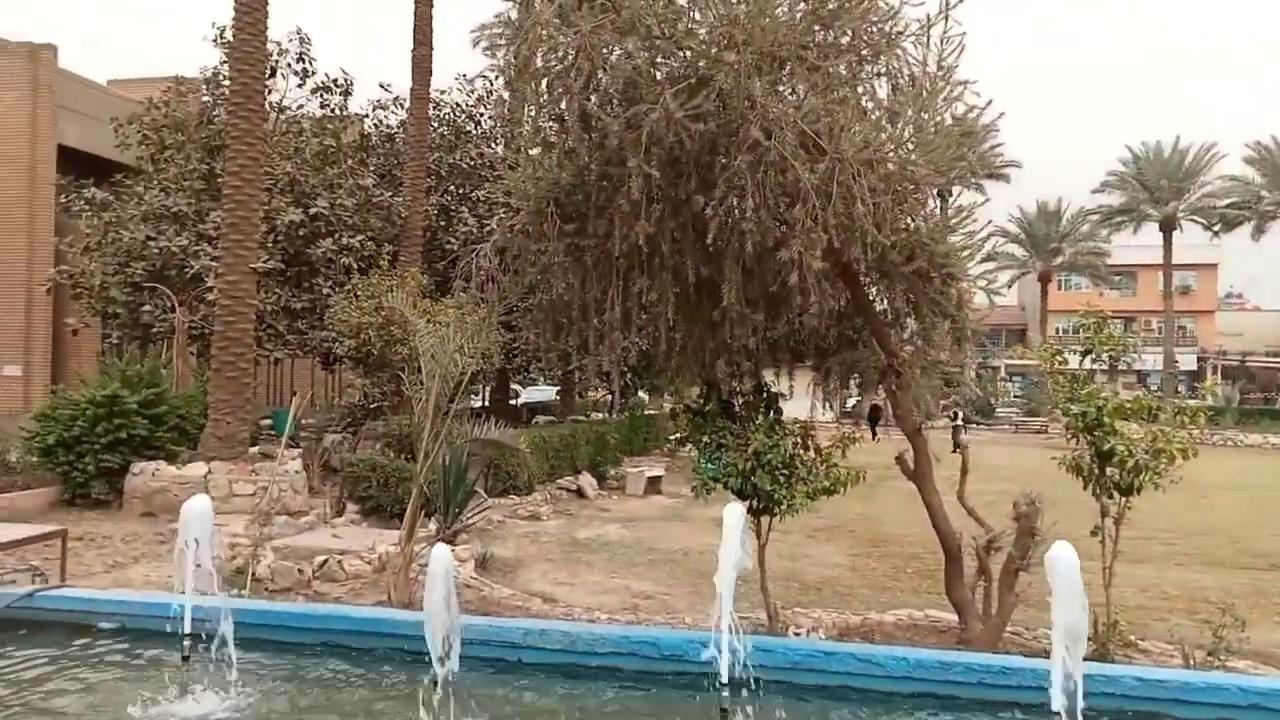fountain: (1, 492, 1277, 717), (125, 490, 257, 717), (165, 490, 236, 664), (703, 499, 757, 687), (1041, 538, 1090, 718), (420, 539, 463, 692), (169, 491, 225, 596)
person: (946, 408, 966, 453), (866, 400, 883, 442)
tree: (464, 0, 1048, 649), (184, 16, 353, 462), (324, 268, 532, 608), (1043, 377, 1207, 662), (677, 404, 868, 634), (1087, 133, 1242, 400), (191, 0, 275, 465), (17, 344, 208, 508), (978, 195, 1113, 350), (1206, 132, 1279, 402), (1208, 132, 1279, 243), (1072, 305, 1142, 393)
